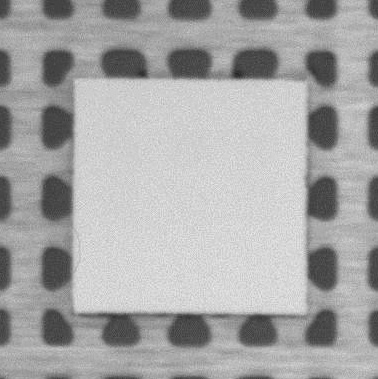DIE_CRACK: (74, 225, 81, 277)
